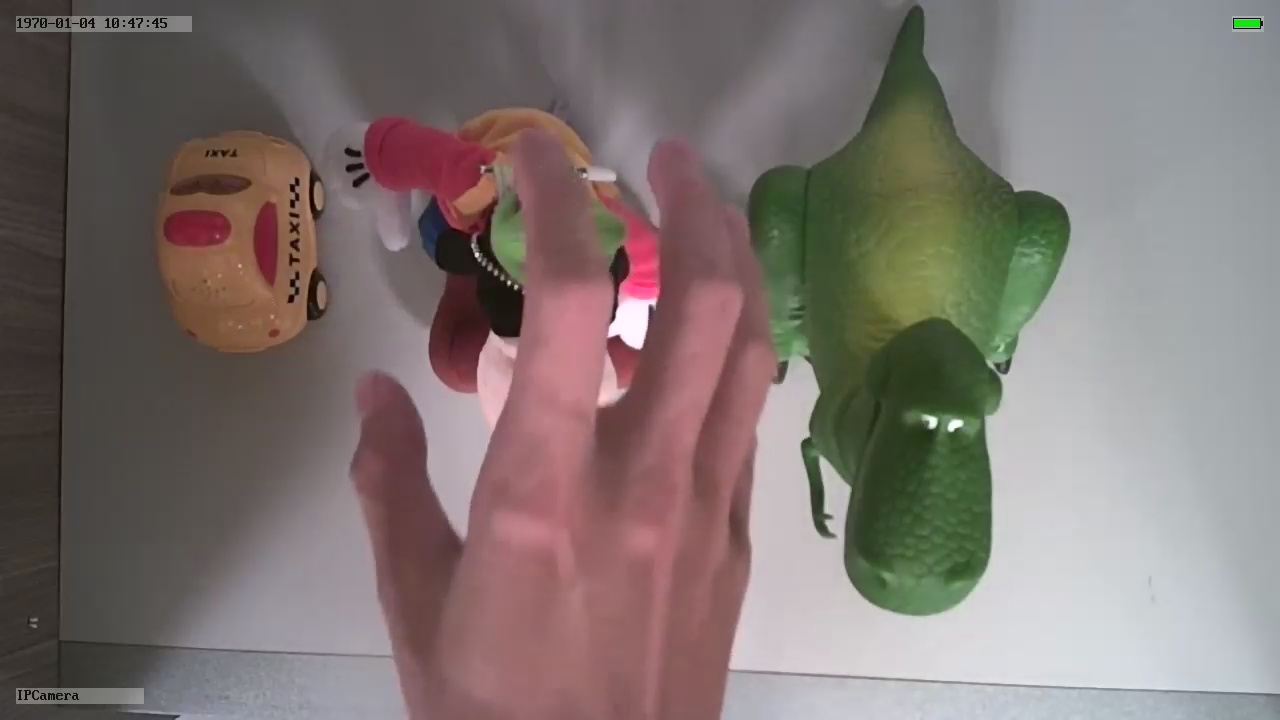car: (152, 127, 331, 356)
rex: (776, 91, 1074, 623)
